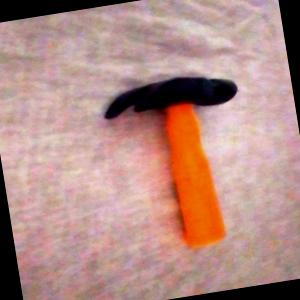martelo: (98, 66, 262, 259)
